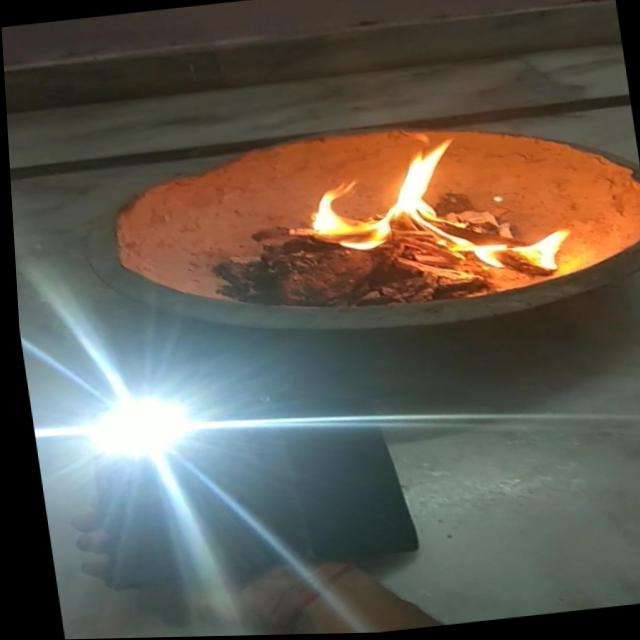fire: (286, 124, 576, 299)
